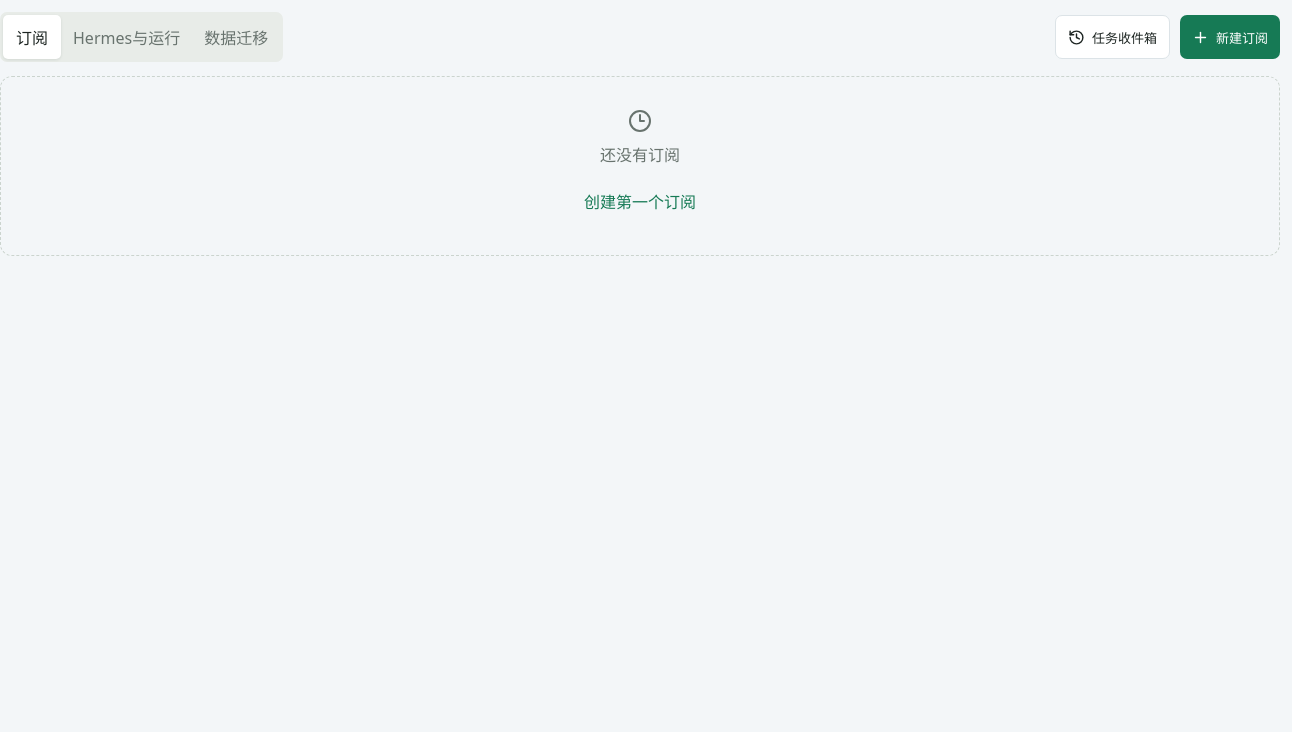
Test case: 数据迁移使用独立设置视图
What coordinates should you click on to do the following:
click the link "数据迁移"
I would click on:
 (236, 38)
Its box is [204,27,268,49].
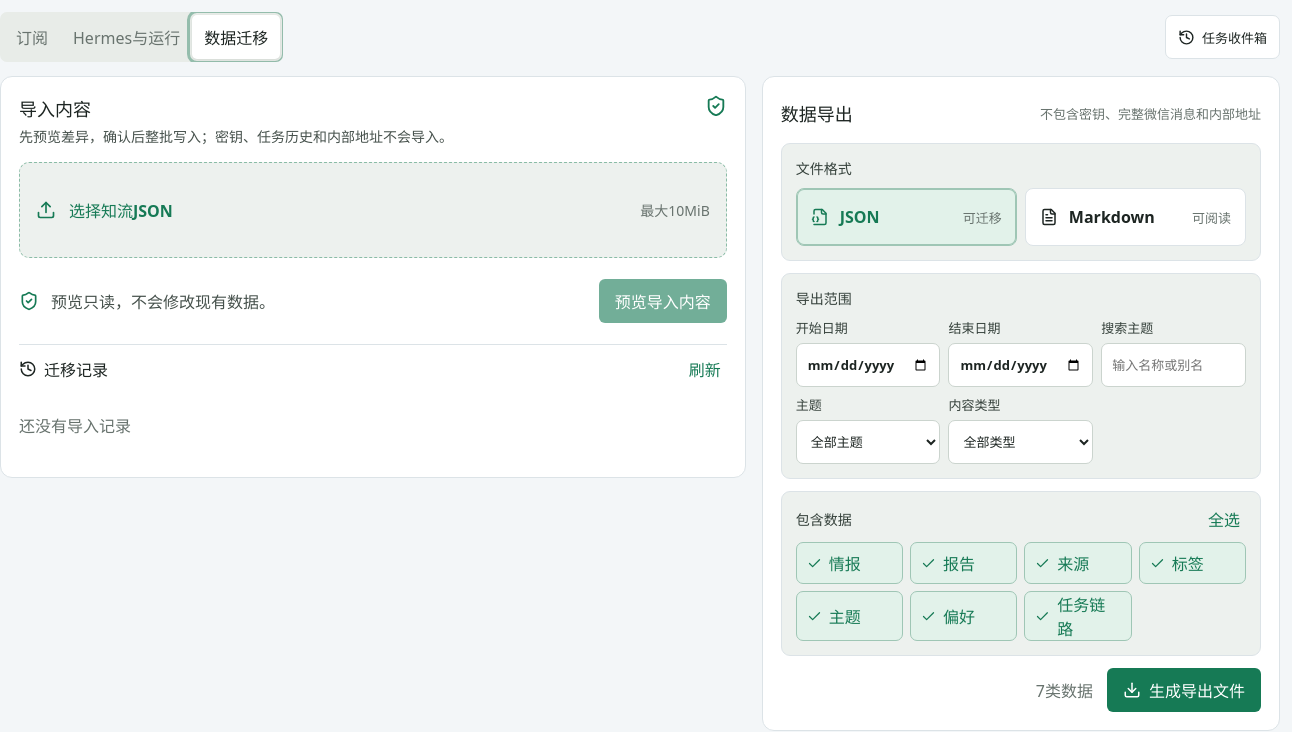
Expected: the heading "导入内容" is shown, [19,97,91,121]
Expected: the heading "数据导出" is shown, [781,100,853,126]
Expected: the button "新建订阅" is gone
